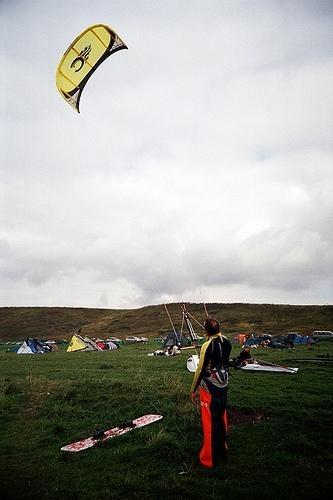truck: (313, 331, 333, 342)
